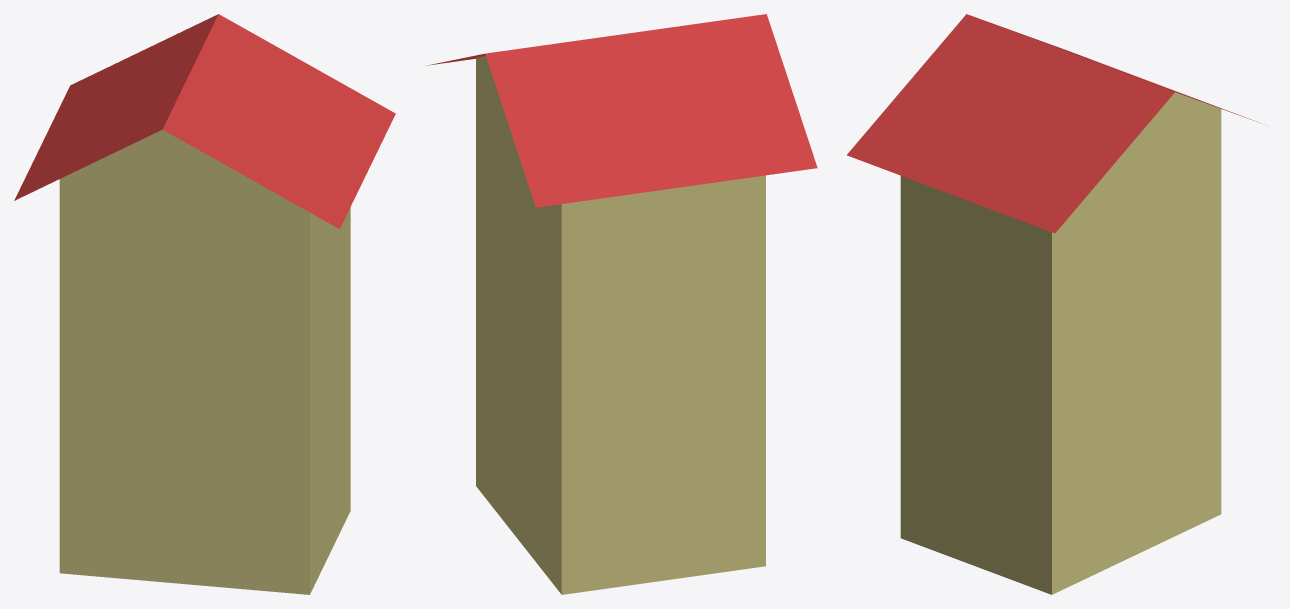
3 renders of one model, left to right at view 1: azimuth 30°, elevation 25°; view 2: azimuth 150°, elevation 25°; view 3: azimuth 270°, elevation 25°, orthographic. The views are drawn at different scales.
Size of the model in its own units: 5.64 by 5.58 by 6.73.
